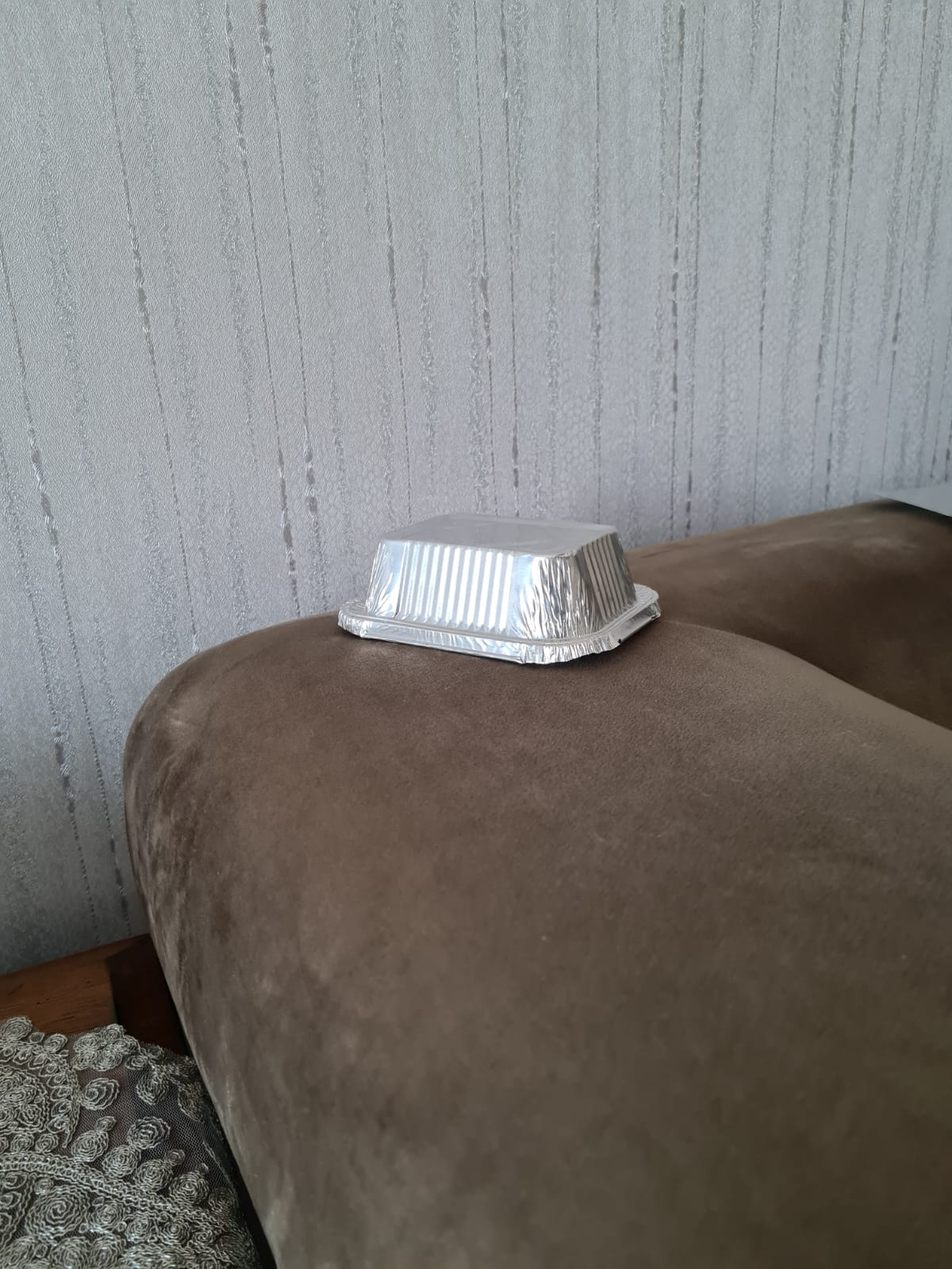Metal: (332, 513, 677, 666)
